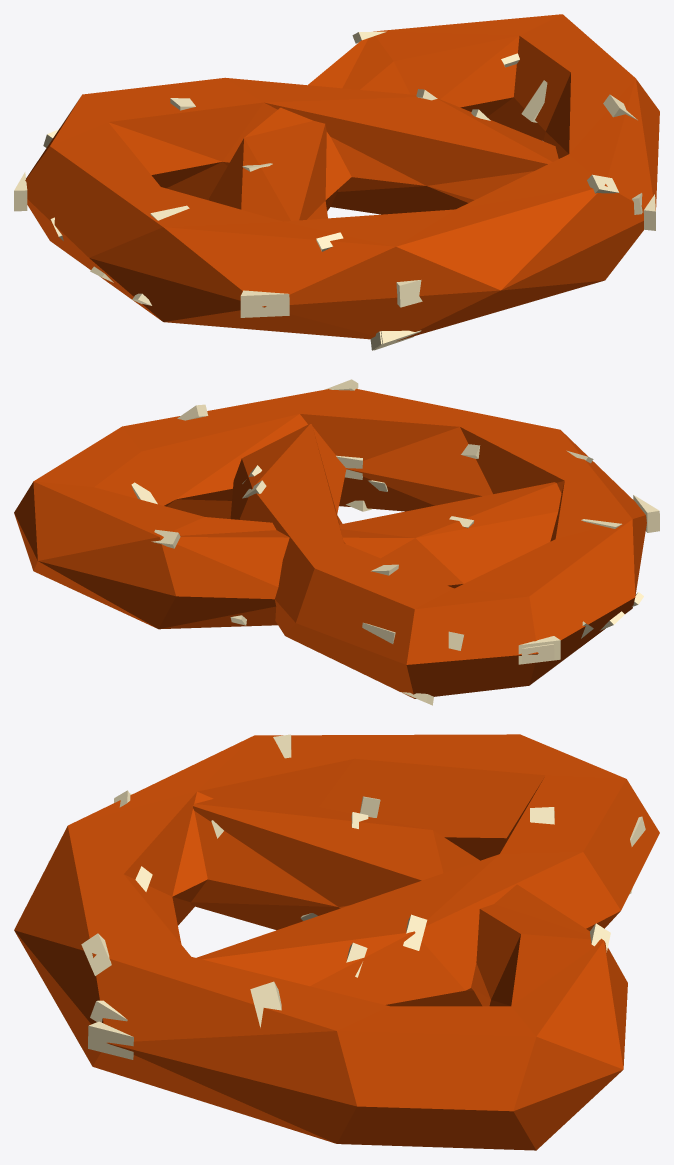
File: pretzel.fbx
3 views of the same model, one above another, from view 1: azimuth 30°, elevation 25°; view 2: azimuth 150°, elevation 25°; view 3: azimuth 270°, elevation 25° (orthographic). The views are drawn at different scales.
Visible parts, largest first — view 1: BezierCurve, Cube.033; view 2: BezierCurve, Cube.033; view 3: BezierCurve, Cube.033.
Boxes of the visible parts, box(x1,y1,x2,y2) form: BezierCurve: box(25, 14, 659, 340); Cube.033: box(14, 31, 655, 350); BezierCurve: box(14, 388, 646, 698); Cube.033: box(131, 379, 659, 705); BezierCurve: box(14, 734, 659, 1150); Cube.033: box(48, 734, 645, 1059).
Bounding box in the file's own units: 0.0685 × 0.0133 × 0.0547.
1 material, 1 textured.
